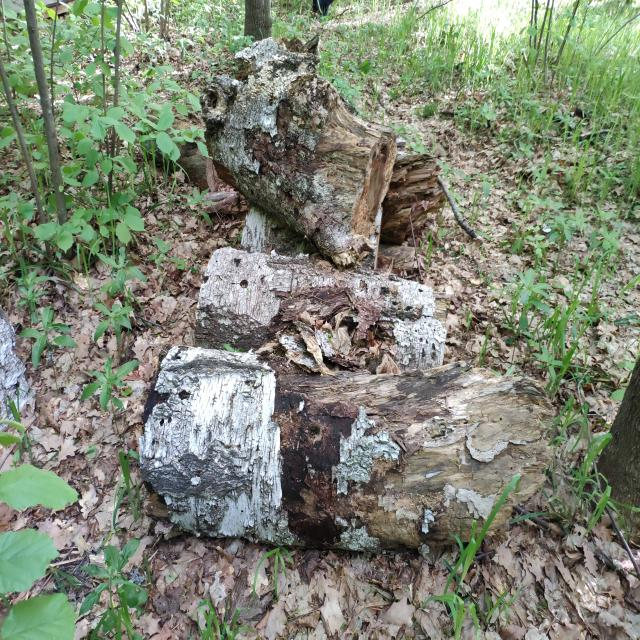restos de madeira: (138, 341, 547, 553), (198, 37, 404, 265), (194, 243, 455, 379), (376, 146, 449, 248)
